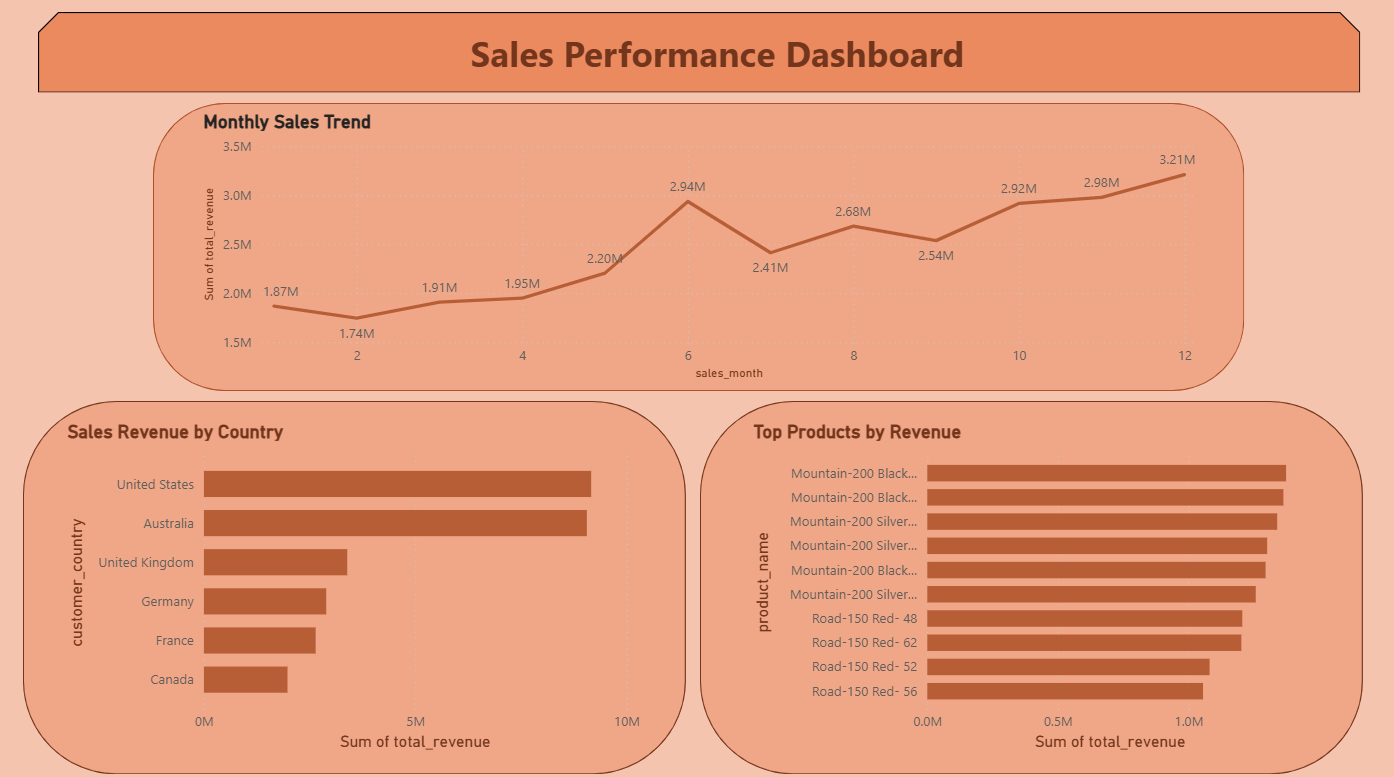

The dashboard page shown, as its layout file describes it:
{"tool":"powerbi","page":{"name":"Page 1","canvas":[1280,720],"ordinal":0},"visuals":[{"type":"lineChart","title":"Monthly Sales Trend","fields":{"Category":["gold sales_by_month.sales_month"],"Y":["Sum(gold sales_by_month.total_revenue)"]},"box":[0,72.9,1280,252.9],"z":0},{"type":"clusteredBarChart","title":"Sales Revenue by Country","fields":{"Category":["gold sales_by_country.customer_country"],"Y":["Sum(gold sales_by_country.total_revenue)"]},"box":[0,345.3,640,374.5],"z":1000},{"type":"clusteredBarChart","title":"Top Products by Revenue","fields":{"Category":["gold top_products.product_name"],"Y":["Sum(gold top_products.total_revenue)"]},"box":[671.1,345.3,608.9,374.5],"z":2000},{"type":"textbox","box":[435,12,471,54],"z":3000}]}

Visuals, with their boxes in screenshot pixels (x1, y1, x2, y2), scaled from the page's 1280x720 canvas onto the 1394x777 screenshot:
"Monthly Sales Trend" lineChart: 0:79:1393:352
"Sales Revenue by Country" clusteredBarChart: 0:373:697:776
"Top Products by Revenue" clusteredBarChart: 731:373:1393:776
textbox: 474:13:987:71
